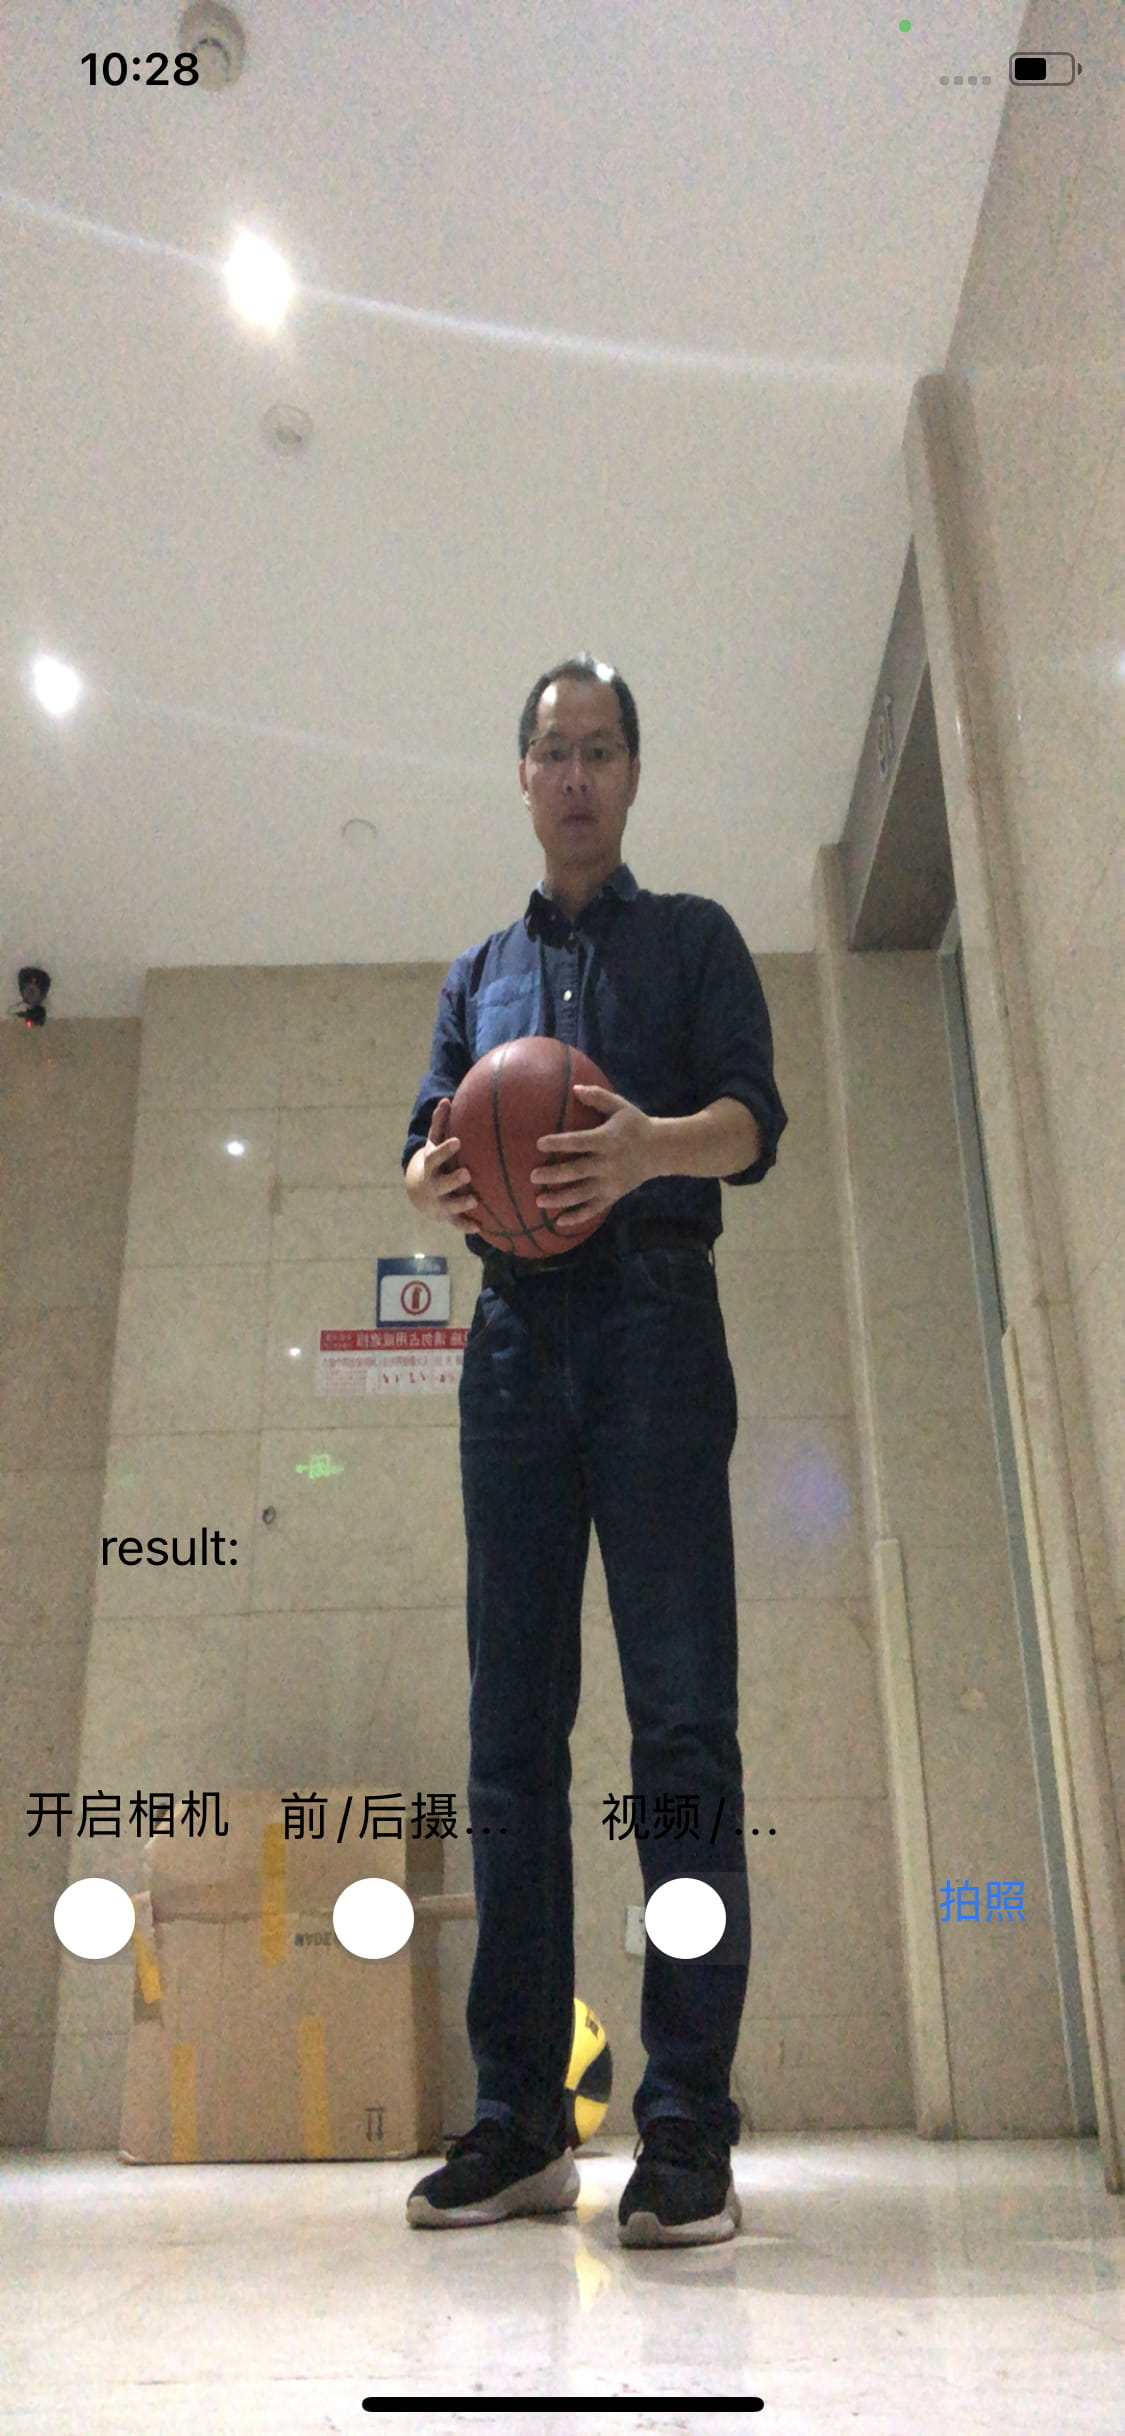ball: (438, 1036, 625, 1261)
